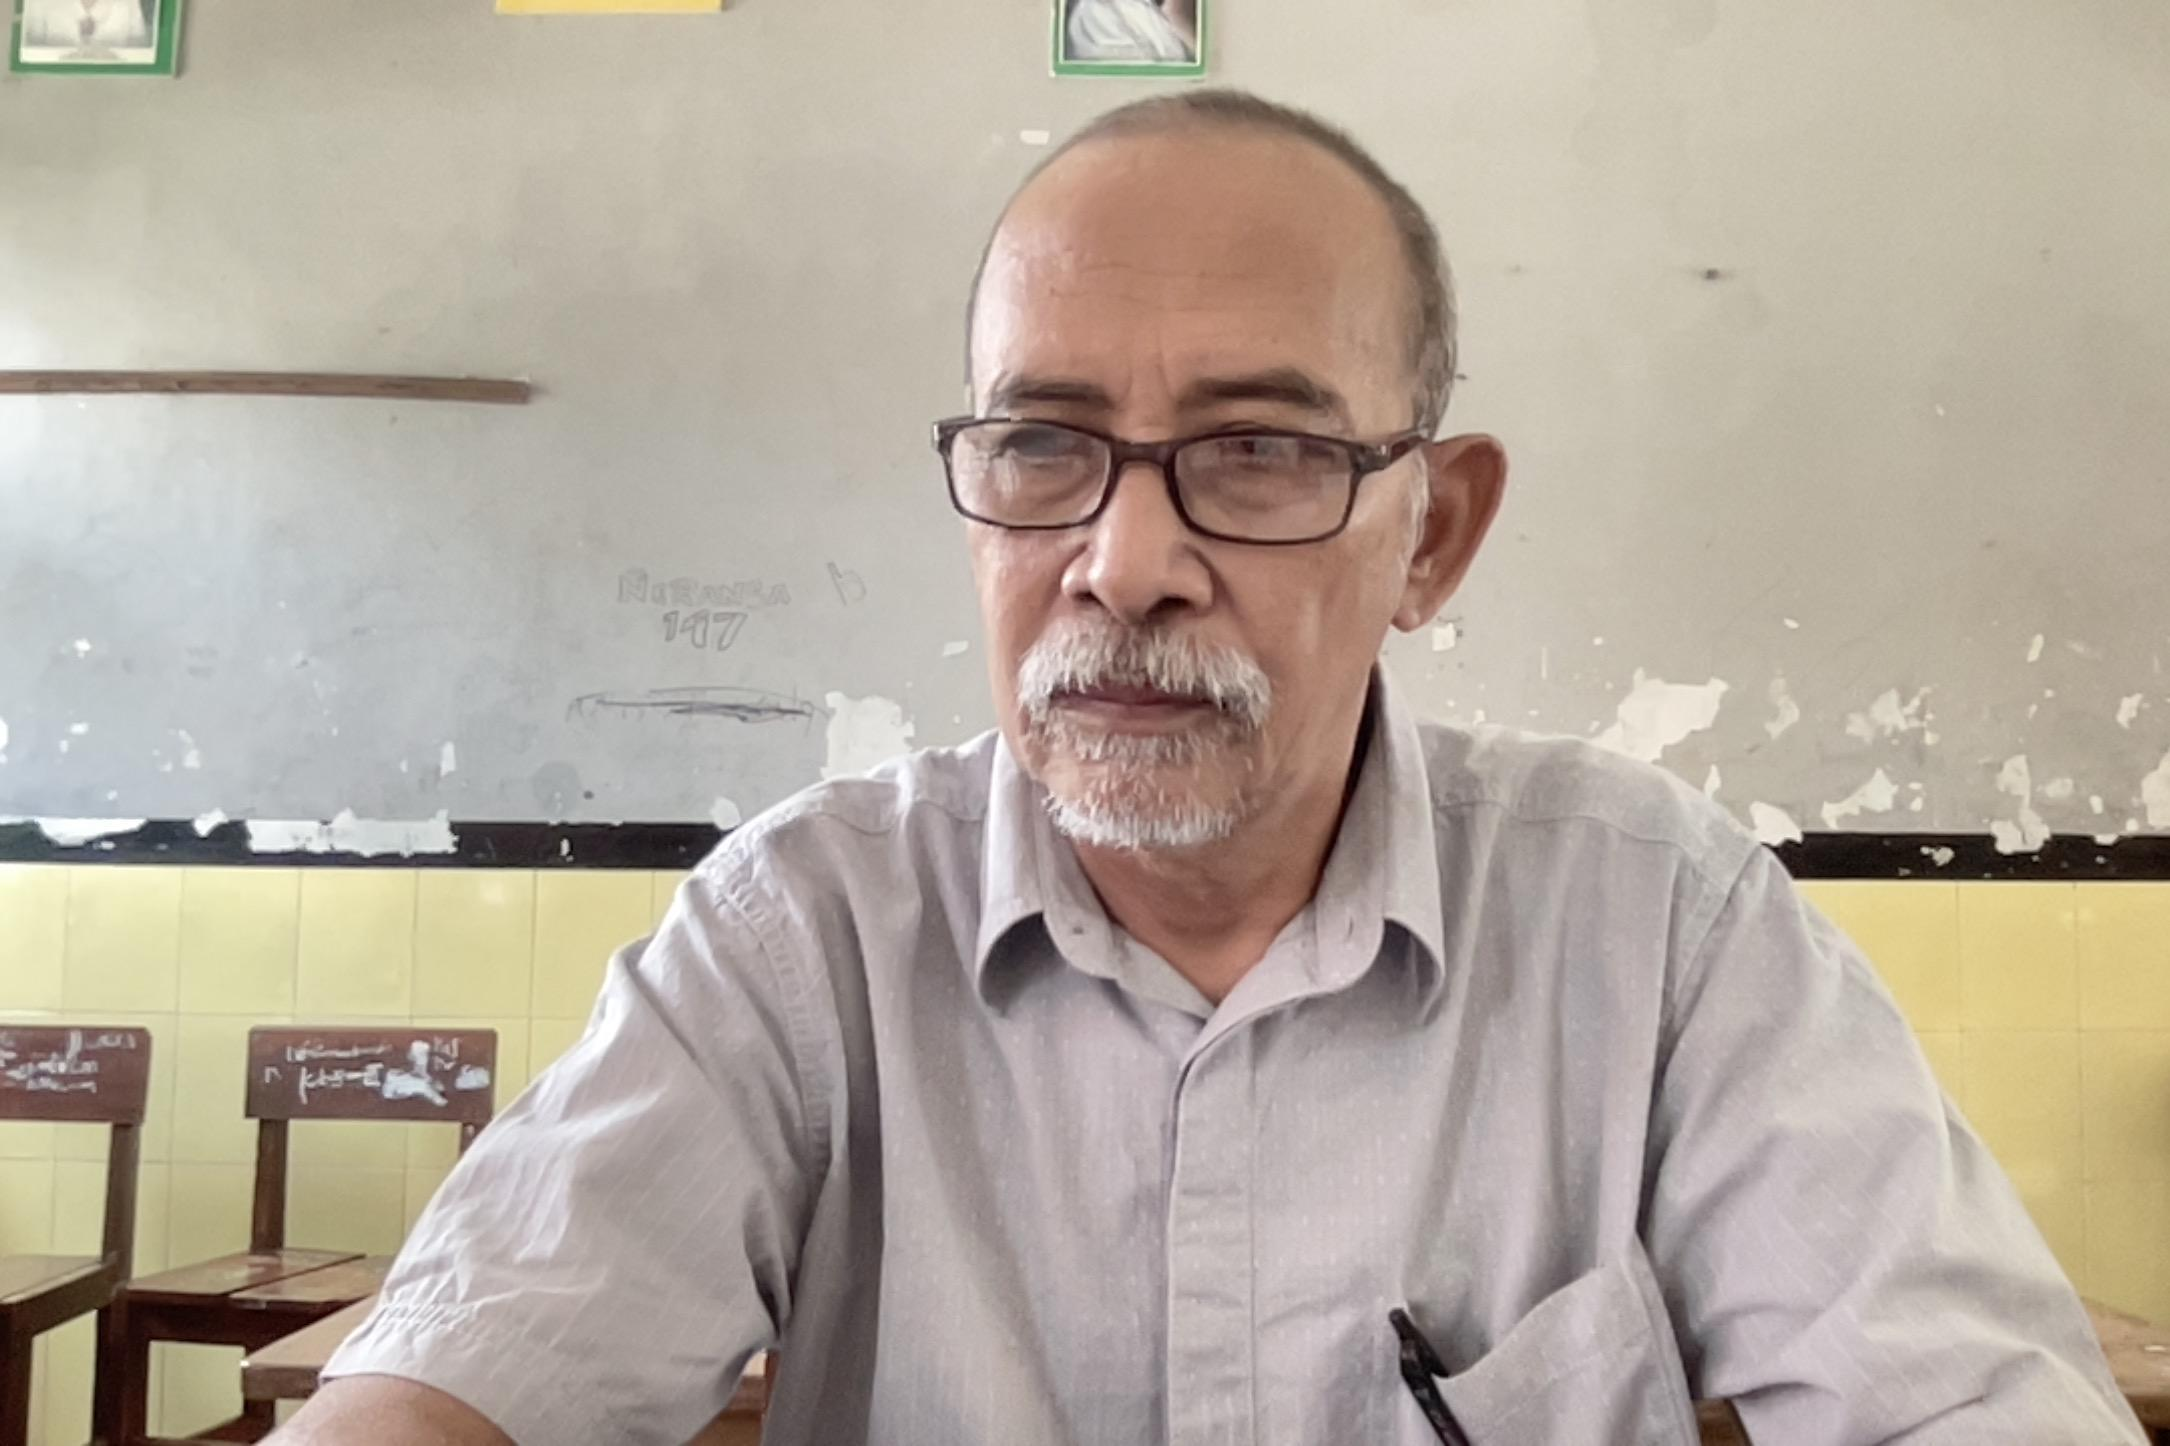cheating: (871, 58, 1560, 1070)
